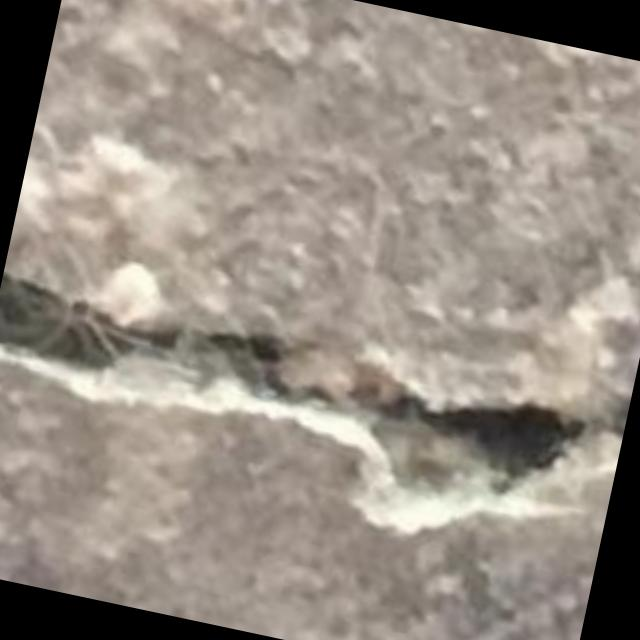crack: (0, 276, 628, 490)
